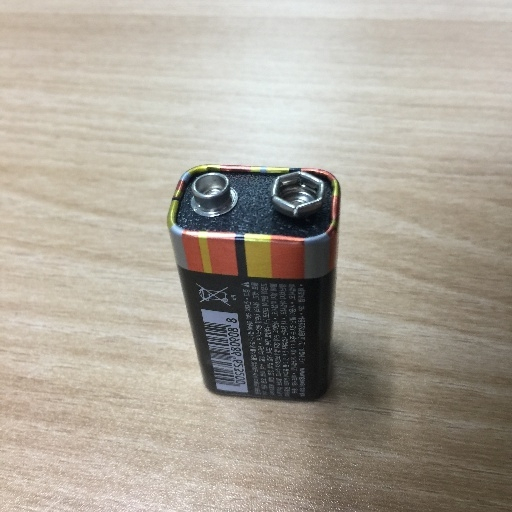Battery_3: (164, 150, 359, 420)
